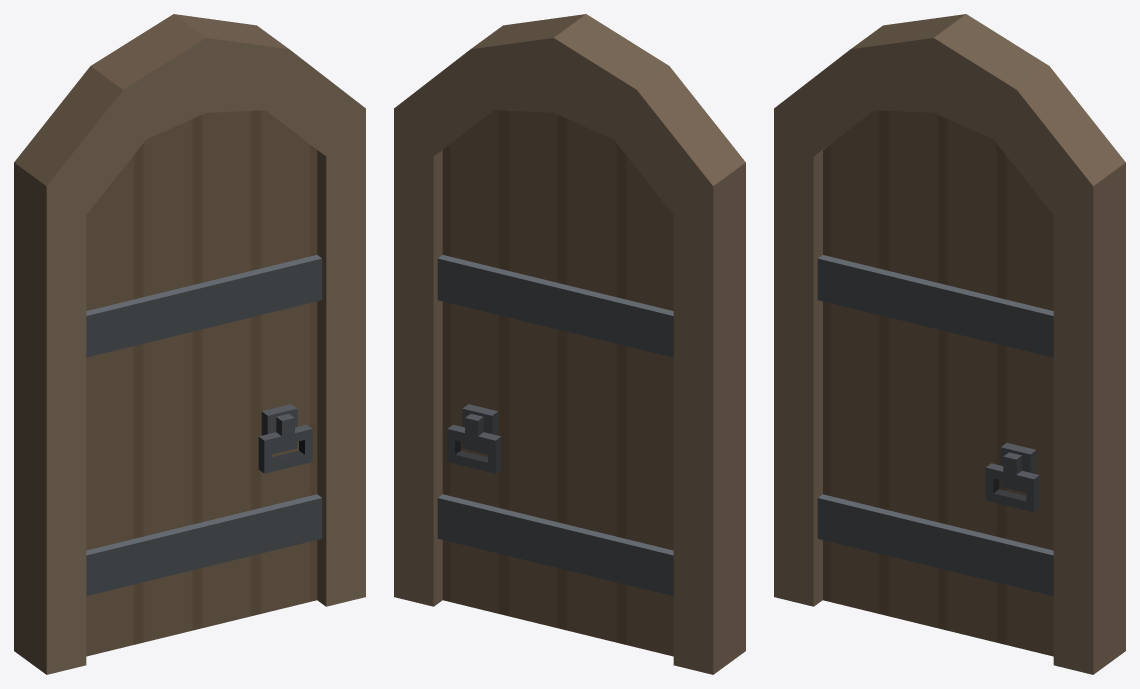
Rendered from SD_Env_Door_01.fbx.
3 views of the same model, side by side, from view 1: azimuth 30°, elevation 25°; view 2: azimuth 150°, elevation 25°; view 3: azimuth 330°, elevation 25° (orthographic).
Parts seen in each view (by area): view 1: Door, SD_Env_Door_01; view 2: Door, SD_Env_Door_01; view 3: Door, SD_Env_Door_01.
Boxes of the visible parts, x1=… form: Door: x1=86, y1=110, x2=322, y2=656; SD_Env_Door_01: x1=14, y1=14, x2=365, y2=674; Door: x1=437, y1=110, x2=673, y2=656; SD_Env_Door_01: x1=394, y1=14, x2=745, y2=674; Door: x1=817, y1=110, x2=1053, y2=656; SD_Env_Door_01: x1=774, y1=14, x2=1125, y2=674.
Bounding box in the file's own units: 2.56 × 4.59 × 0.5362.
